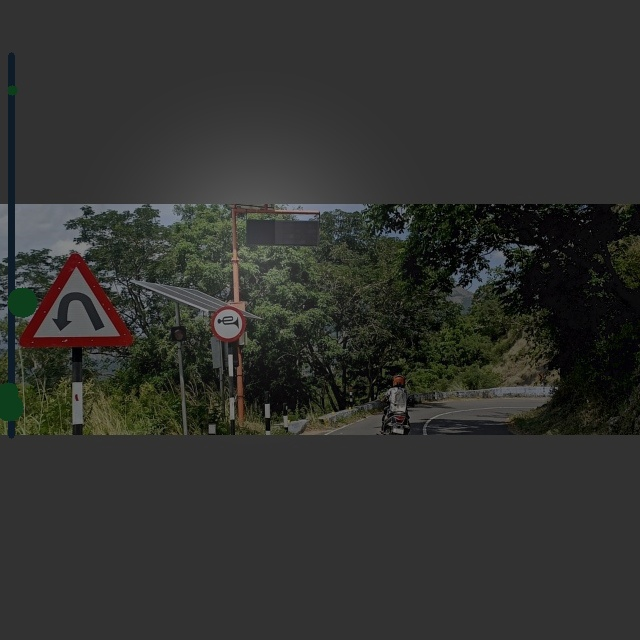Left_Hair_Pin_Bend: (19, 248, 137, 353)
